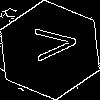V: (25, 25, 78, 63)
